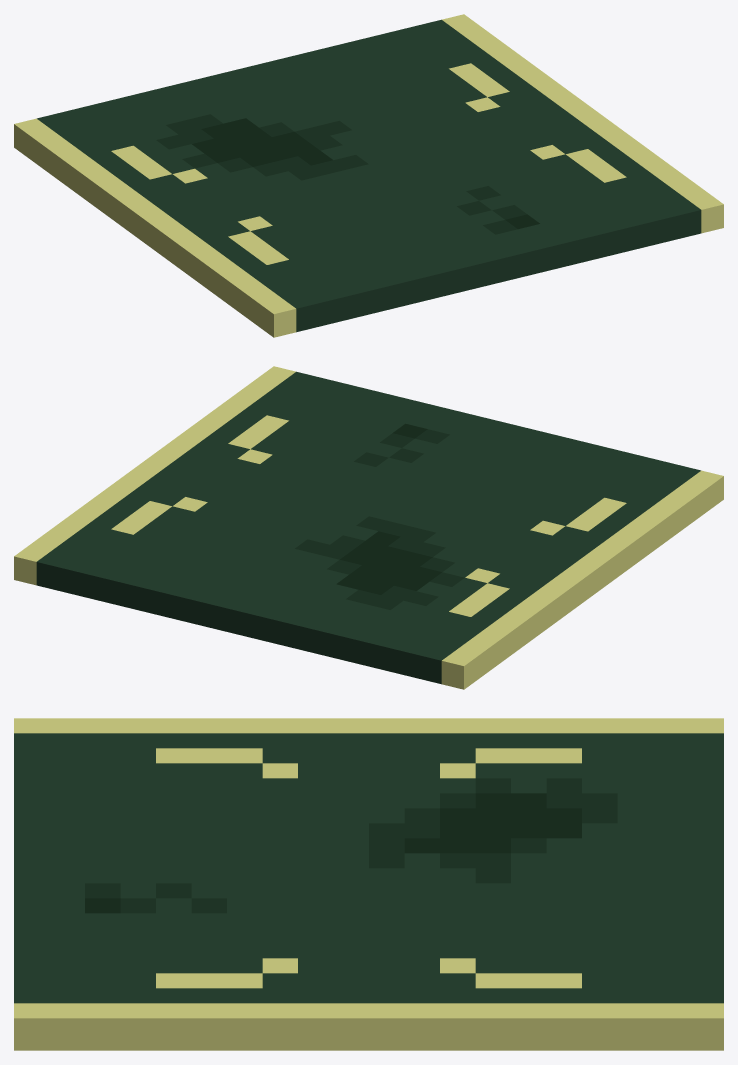
The model's file is GreenRug_Mid_02.obj.
3 views of the same model, one above another, from view 1: azimuth 30°, elevation 25°; view 2: azimuth 150°, elevation 25°; view 3: azimuth 270°, elevation 25° (orthographic). The views are drawn at different scales.
Visible parts, largest first — view 1: GreenRug_Mid_02.001; view 2: GreenRug_Mid_02.001; view 3: GreenRug_Mid_02.001.
Boxes of the visible parts, <box> form: GreenRug_Mid_02.001: <box>14,14,723,337</box>; GreenRug_Mid_02.001: <box>14,366,723,689</box>; GreenRug_Mid_02.001: <box>14,718,723,1050</box>.
Size of the model in its own units: 2 by 0.1 by 2.
